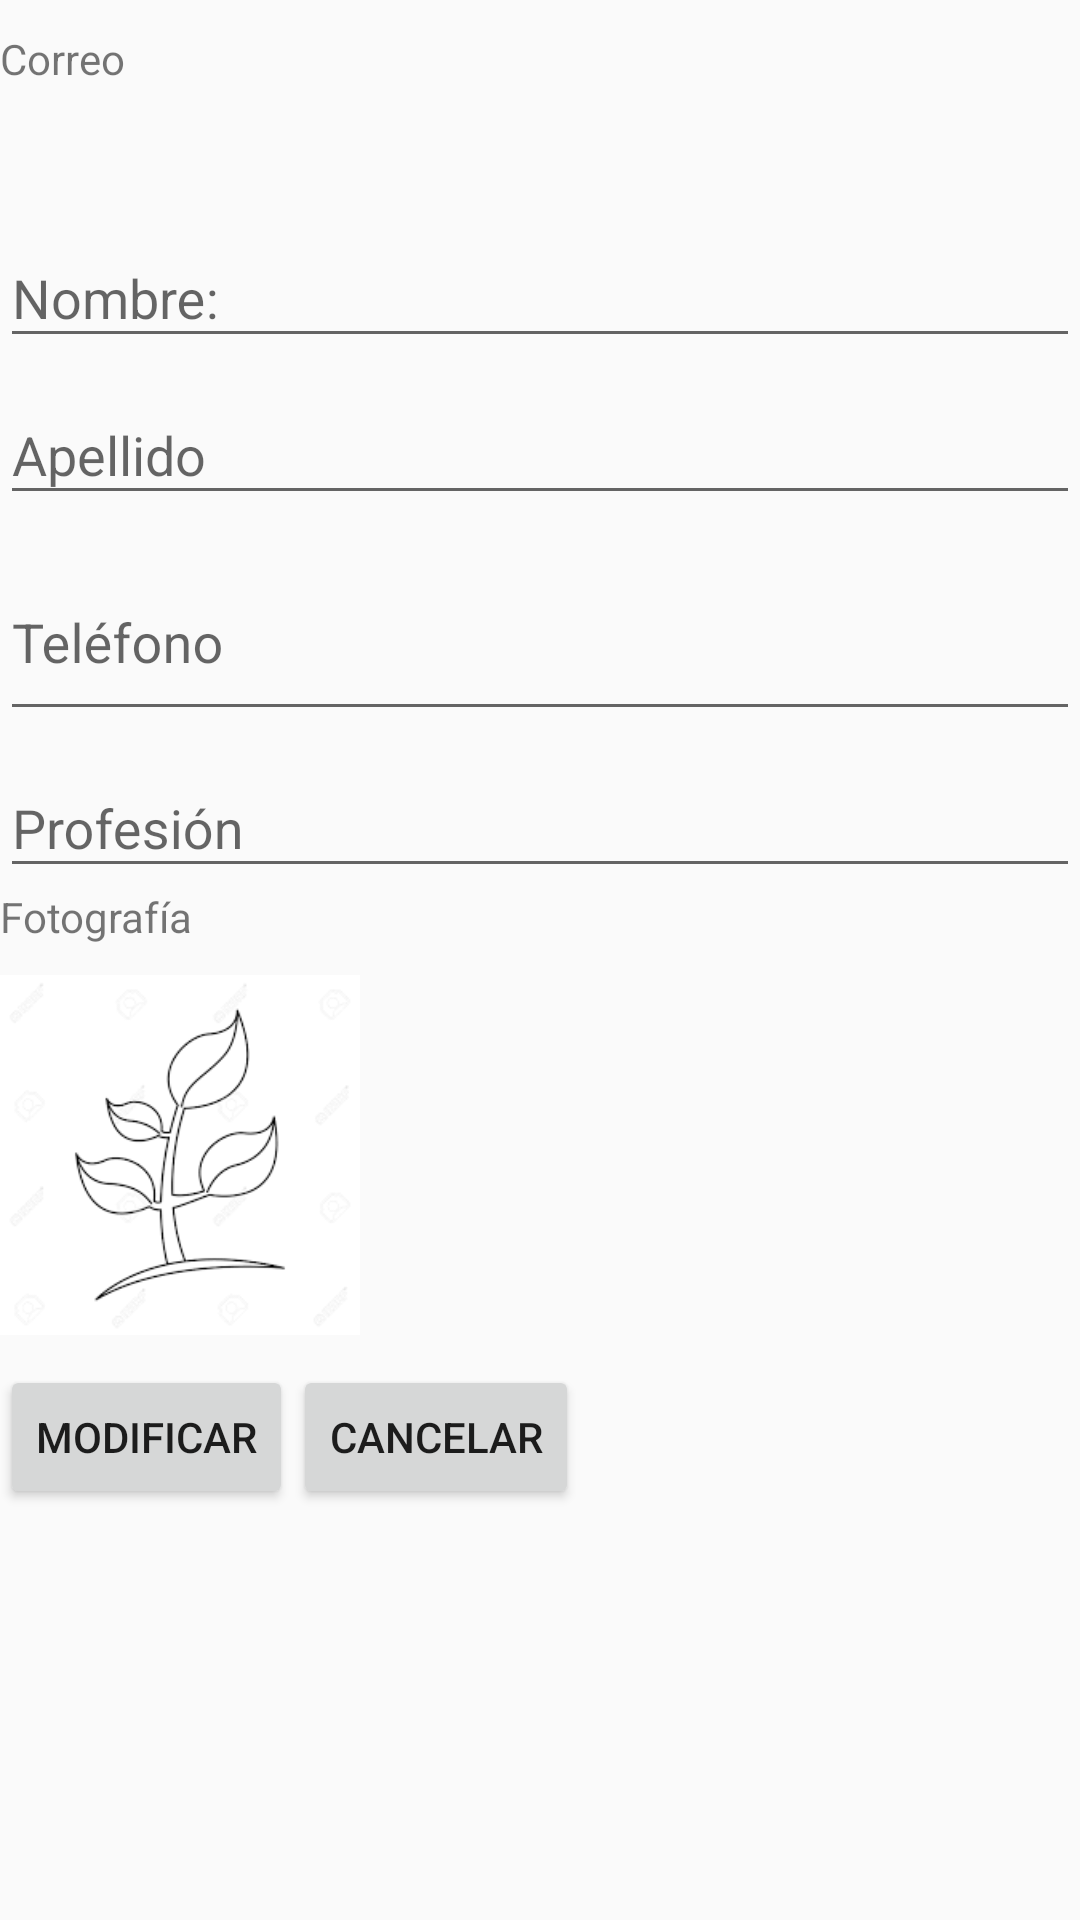

Screen size 1080*1920. Icon name, then its box in pixels as [x1,y1,x2,y2]:
silueta planta: [75,1009,285,1301]
